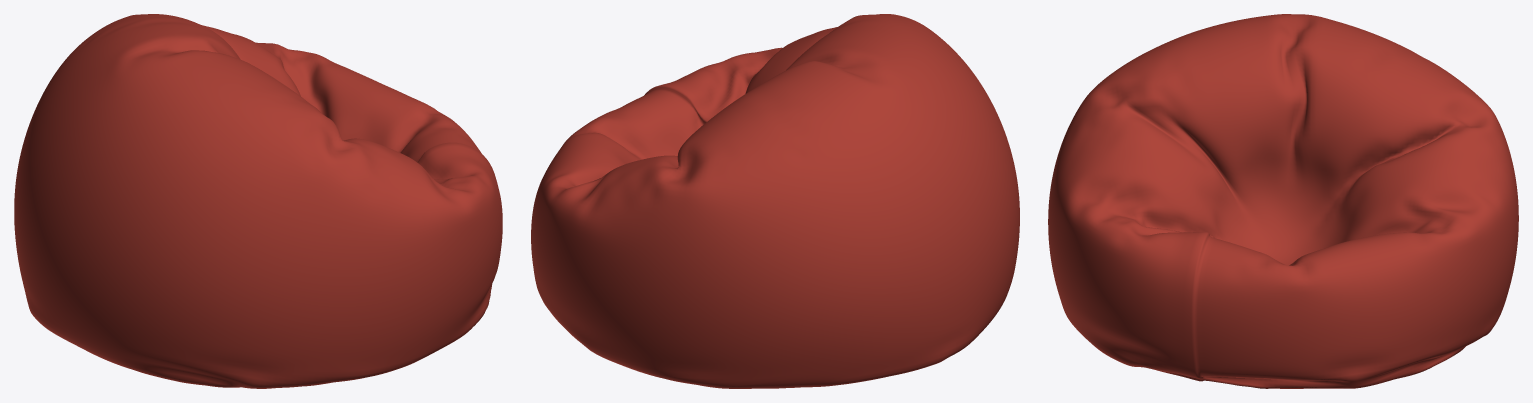
File: fbx_beanbag.fbx
The picture shows the model from 3 angles, left to right: view 1: azimuth 30°, elevation 25°; view 2: azimuth 150°, elevation 25°; view 3: azimuth 270°, elevation 25°; orthographic projection. The views are drawn at different scales.
Parts seen in each view (by area): view 1: Bean_bag; view 2: Bean_bag; view 3: Bean_bag.
Part boxes in pixels (<box>): Bean_bag: <box>14,14,502,388</box>; Bean_bag: <box>531,14,1019,388</box>; Bean_bag: <box>1048,14,1518,388</box>.
Size of the model in its own units: 167 by 100 by 175.
